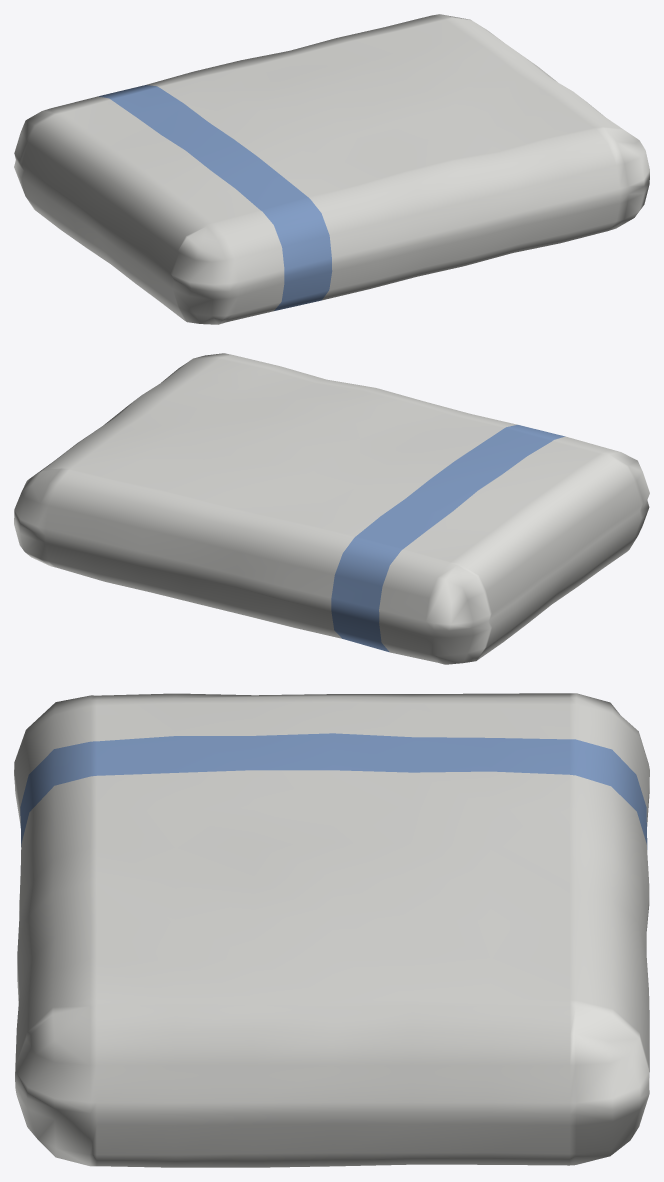
Rendered from textiles_towel_folded.fbx.
3 renders of one model, top to bottom at view 1: azimuth 30°, elevation 25°; view 2: azimuth 150°, elevation 25°; view 3: azimuth 270°, elevation 25°, orthographic. The views are drawn at different scales.
Parts seen in each view (by area): view 1: textiles_towel_folded; view 2: textiles_towel_folded; view 3: textiles_towel_folded.
Part boxes in pixels (x1,y1,x2,y2): textiles_towel_folded: [14, 14, 649, 324]; textiles_towel_folded: [14, 353, 649, 664]; textiles_towel_folded: [14, 693, 649, 1167].
Size of the model in its own units: 0.3568 by 0.0767 by 0.2622.
